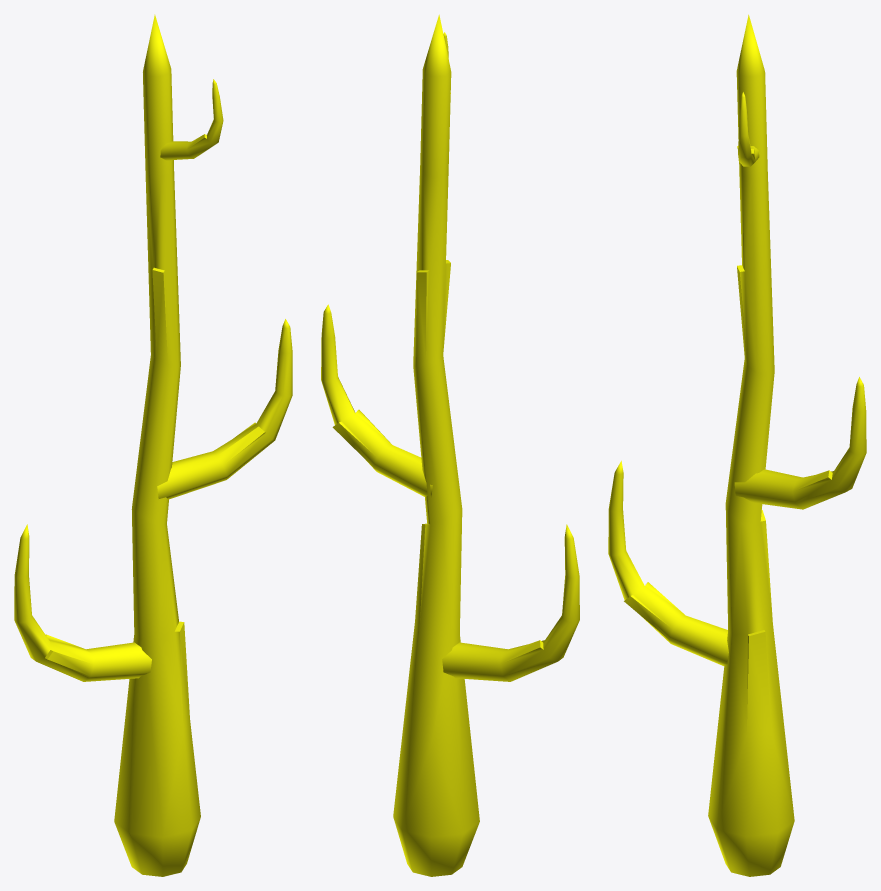
The model's file is kaykit-tree-bare-2-b-color-1.glb.
3 renders of one model, left to right at view 1: azimuth 30°, elevation 25°; view 2: azimuth 150°, elevation 25°; view 3: azimuth 330°, elevation 25°, orthographic.
Visible parts, largest first — view 1: Tree_Bare_2_B_Color1; view 2: Tree_Bare_2_B_Color1; view 3: Tree_Bare_2_B_Color1.
Boxes of the visible parts, x1=… form: Tree_Bare_2_B_Color1: x1=14, y1=14, x2=292, y2=876; Tree_Bare_2_B_Color1: x1=321, y1=14, x2=579, y2=876; Tree_Bare_2_B_Color1: x1=608, y1=14, x2=866, y2=876.
Bounding box in the file's own units: 1.79 × 5.54 × 0.6636.
